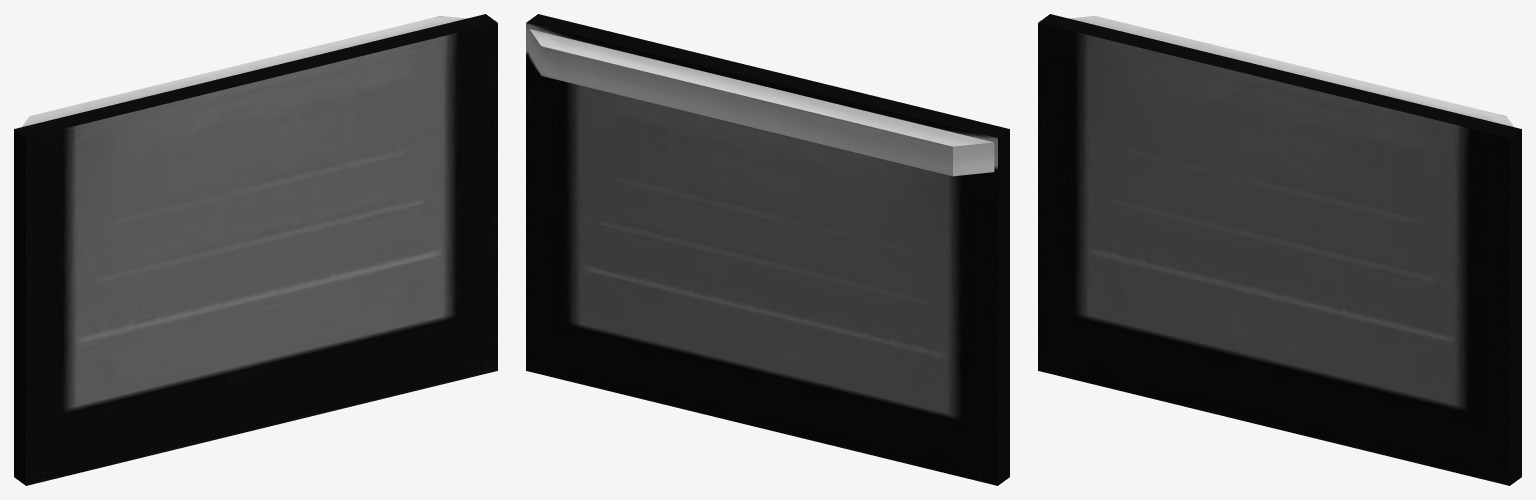
Rendered from Stove_door.glb.
The picture shows the model from 3 angles, left to right: view 1: azimuth 30°, elevation 25°; view 2: azimuth 150°, elevation 25°; view 3: azimuth 330°, elevation 25°; orthographic projection.
Visible parts, largest first — view 1: Stove_door; view 2: Stove_door; view 3: Stove_door.
Part boxes in pixels (x1,y1,x2,y2): Stove_door: (14, 14, 497, 485); Stove_door: (526, 14, 1009, 485); Stove_door: (1038, 14, 1521, 485).
Size of the model in its own units: 0.8921 by 0.6288 by 0.0882.
Materials: 1 (1 with a texture image).
